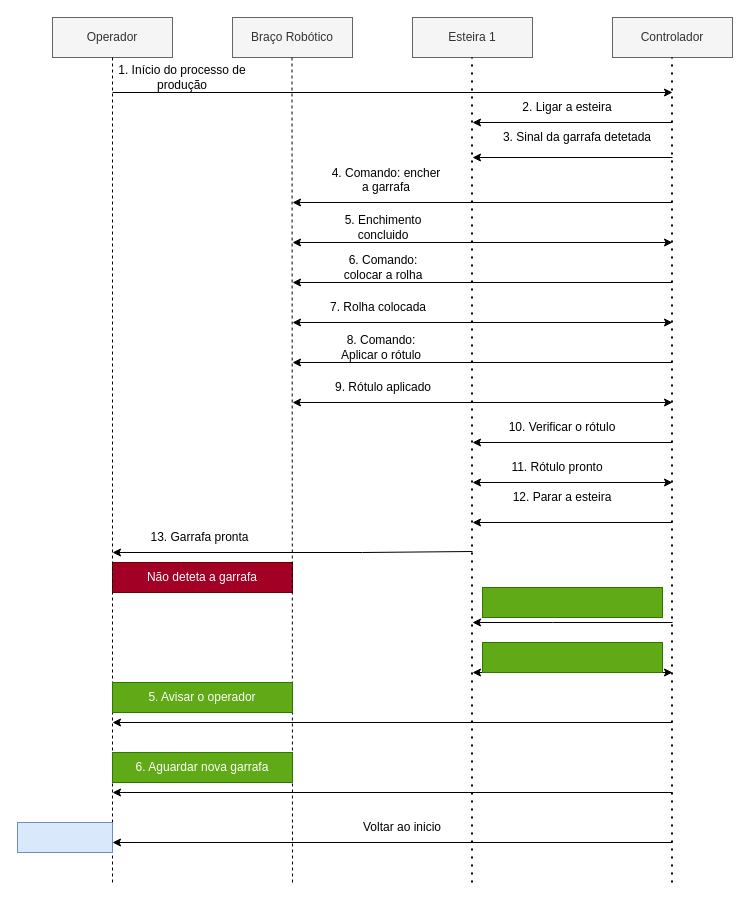
The diagram is 750 pixels wide and 902 high, and some of its shapes have lost their labels. Each missing label, with the centre of its shape:
3. Sinal de garrafa não detetada: [572,602]
4. Manter a esteira parada: [572,657]
Fim: [64,837]
